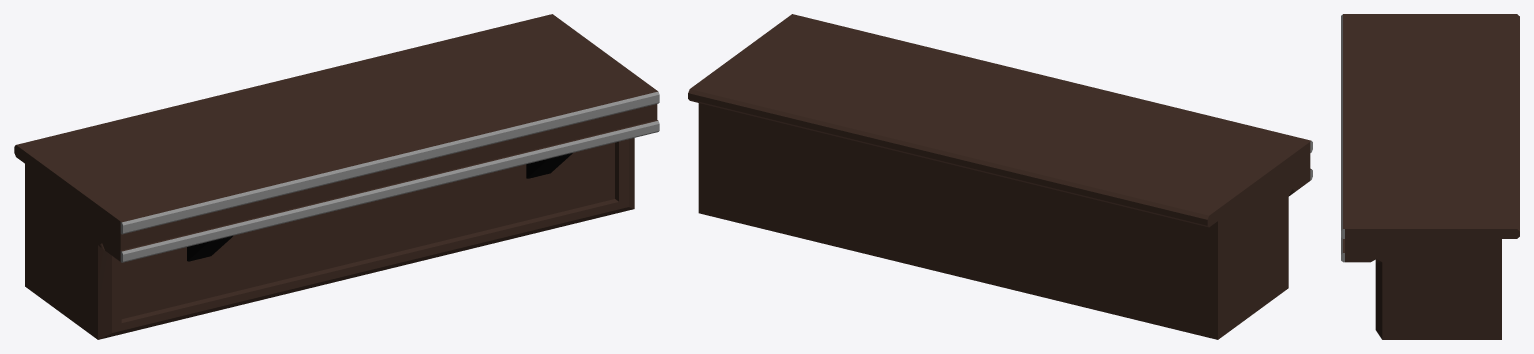
Rendered from Counter_Top.fbx.
3 renders of one model, left to right at view 1: azimuth 30°, elevation 25°; view 2: azimuth 150°, elevation 25°; view 3: azimuth 270°, elevation 25°, orthographic. The views are drawn at different scales.
Visible parts, largest first — view 1: Counter; view 2: Counter; view 3: Counter.
Boxes of the visible parts, x1,y1,x2,y2 form: Counter: (14,14,659,339); Counter: (688,14,1312,339); Counter: (1341,14,1519,339).
Size of the model in its own units: 18.68 by 4.49 by 6.56.
